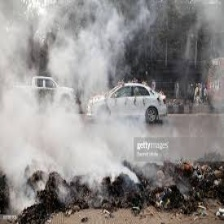smoke: (14, 97, 121, 180), (52, 37, 119, 64)
